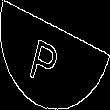P_N: (37, 24, 73, 86)
